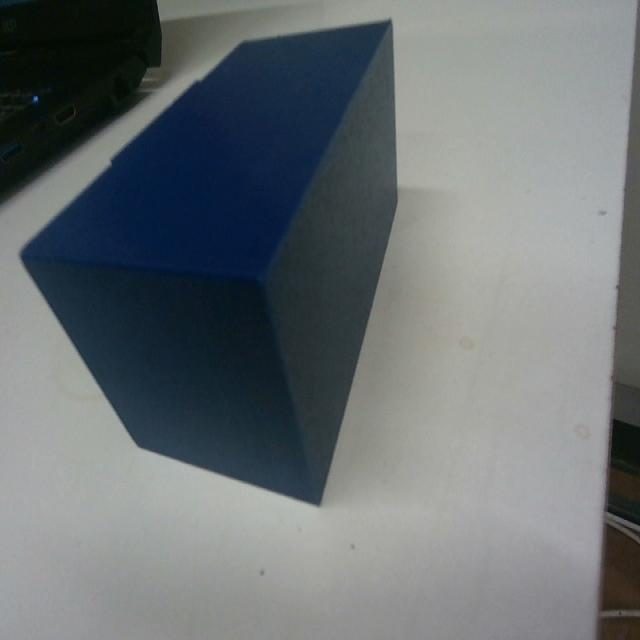Blue Cuboid: (19, 14, 401, 507)
